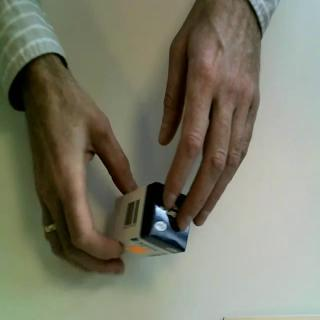xanor2mg: (108, 180, 195, 268)
